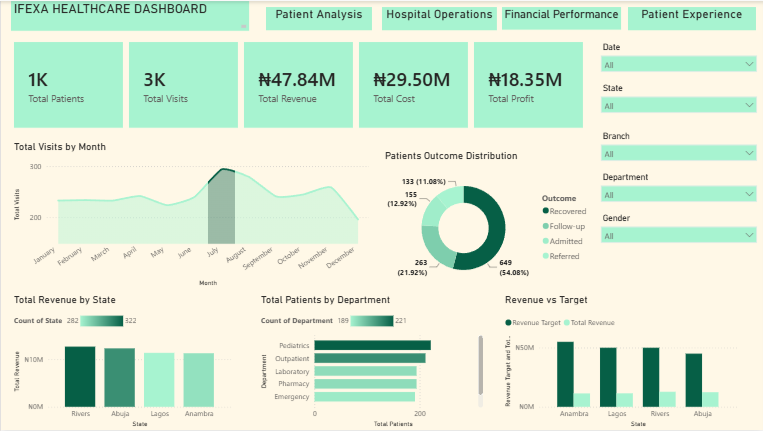

The dashboard page shown, as its layout file describes it:
{"tool":"powerbi","page":{"name":"Executive Overview","canvas":[1280,720],"ordinal":0},"visuals":[{"type":"cardVisual","fields":{"Data":["Date_Table.Total Patients"]},"box":[16.8,63.8,193.2,154.5],"z":0},{"type":"cardVisual","fields":{"Data":["Date_Table.Total Visits"]},"box":[210,63.8,193.2,154.5],"z":1000},{"type":"cardVisual","fields":{"Data":["Date_Table.Total Revenue"]},"box":[403.1,63.8,193.2,154.5],"z":2000},{"type":"cardVisual","fields":{"Data":["Date_Table.Total Cost"]},"box":[596.3,63.8,193.2,154.5],"z":3000},{"type":"cardVisual","fields":{"Data":["Date_Table.Total Profit"]},"box":[789.5,63.8,193.2,154.5],"z":4000},{"type":"textbox","box":[16.8,0,399.8,50.4],"z":5000},{"type":"lineChart","fields":{"Category":["Date_Table.Date.Variation.Date Hierarchy.Month"],"Y":["Date_Table.Total Visits"]},"box":[16.8,233.5,606.4,250.3],"z":6000},{"type":"clusteredColumnChart","fields":{"Category":["Patient_Visits.State"],"Y":["Date_Table.Total Revenue"]},"box":[16.8,490.5,374.6,230.1],"z":7000},{"type":"barChart","fields":{"Category":["Patient_Visits.Department"],"Y":["Date_Table.Total Patients"]},"box":[431.7,490.5,383,230.1],"z":8000},{"type":"clusteredColumnChart","title":"Revenue vs Target ","fields":{"Category":["Patient_Visits.State"],"Y":["Date_Table.Revenue Target","Date_Table.Total Revenue"]},"box":[841.6,490.5,399.8,230.1],"z":9000},{"type":"donutChart","title":"Patients  Outcome Distribution","fields":{"Category":["Patient_Visits.Outcome"],"Y":["Date_Table.Total Patients"]},"box":[640,248.6,357.8,235.2],"z":10000},{"type":"slicer","fields":{"Values":["Patient_Visits.Department"]},"box":[997.8,282.2,282.2,68.9],"z":11000},{"type":"slicer","fields":{"Values":["Patient_Visits.Gender"]},"box":[997.8,351.1,282.2,68.9],"z":12000},{"type":"slicer","fields":{"Values":["Patient_Visits.Branch"]},"box":[997.8,213.3,282.2,68.9],"z":13000},{"type":"slicer","fields":{"Values":["Patient_Visits.State"]},"box":[997.8,132.7,282.2,68.9],"z":14000},{"type":"slicer","fields":{"Values":["Date_Table.Date"]},"box":[997.8,63.8,282.2,68.9],"z":15000},{"type":"actionButton","title":"Patient Analysis","box":[445.1,10.1,178.1,40.3],"z":16000},{"type":"actionButton","title":"Hospital Operations","box":[640,10.1,193.2,40.3],"z":17000},{"type":"actionButton","title":"Financial Performance","box":[841.6,10.1,199.9,40.3],"z":18000},{"type":"actionButton","title":"Patient Experience","box":[1053.2,10.1,215,40.3],"z":19000}]}

Visuals, with their boxes in screenshot pixels (x1, y1, x2, y2), scaled from the page's 1280x720 canvas onto the 763x431 screenshot:
cardVisual - Date_Table.Total Patients: x1=10 y1=38 x2=125 y2=131
cardVisual - Date_Table.Total Visits: x1=125 y1=38 x2=240 y2=131
cardVisual - Date_Table.Total Revenue: x1=240 y1=38 x2=355 y2=131
cardVisual - Date_Table.Total Cost: x1=355 y1=38 x2=471 y2=131
cardVisual - Date_Table.Total Profit: x1=471 y1=38 x2=586 y2=131
textbox: x1=10 y1=0 x2=248 y2=30
lineChart - Date_Table.Date.Variation.Date Hierarchy.Month x Date_Table.Total Visits: x1=10 y1=140 x2=371 y2=290
clusteredColumnChart - Patient_Visits.State x Date_Table.Total Revenue: x1=10 y1=294 x2=233 y2=430
barChart - Patient_Visits.Department x Date_Table.Total Patients: x1=257 y1=294 x2=486 y2=430
"Revenue vs Target " clusteredColumnChart: x1=502 y1=294 x2=740 y2=430
"Patients  Outcome Distribution" donutChart: x1=382 y1=149 x2=595 y2=290
slicer - Patient_Visits.Department: x1=595 y1=169 x2=762 y2=210
slicer - Patient_Visits.Gender: x1=595 y1=210 x2=762 y2=251
slicer - Patient_Visits.Branch: x1=595 y1=128 x2=762 y2=169
slicer - Patient_Visits.State: x1=595 y1=79 x2=762 y2=121
slicer - Date_Table.Date: x1=595 y1=38 x2=762 y2=79
"Patient Analysis" actionButton: x1=265 y1=6 x2=371 y2=30
"Hospital Operations" actionButton: x1=382 y1=6 x2=497 y2=30
"Financial Performance" actionButton: x1=502 y1=6 x2=621 y2=30
"Patient Experience" actionButton: x1=628 y1=6 x2=756 y2=30
